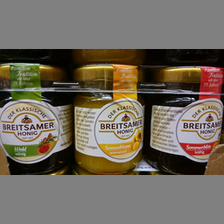honey: (72, 65, 148, 172), (151, 66, 223, 174), (1, 63, 71, 172)
